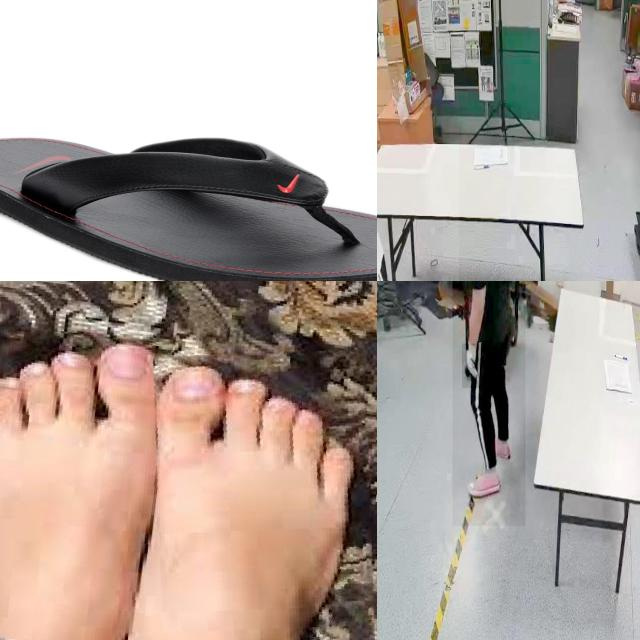Barefoots: (129, 344, 375, 640), (0, 321, 171, 640)
Sandals: (0, 133, 377, 281)
hand_glove: (462, 343, 482, 389)
person: (452, 281, 525, 526), (377, 90, 459, 281)
shoes: (466, 462, 504, 509), (487, 423, 513, 461)
